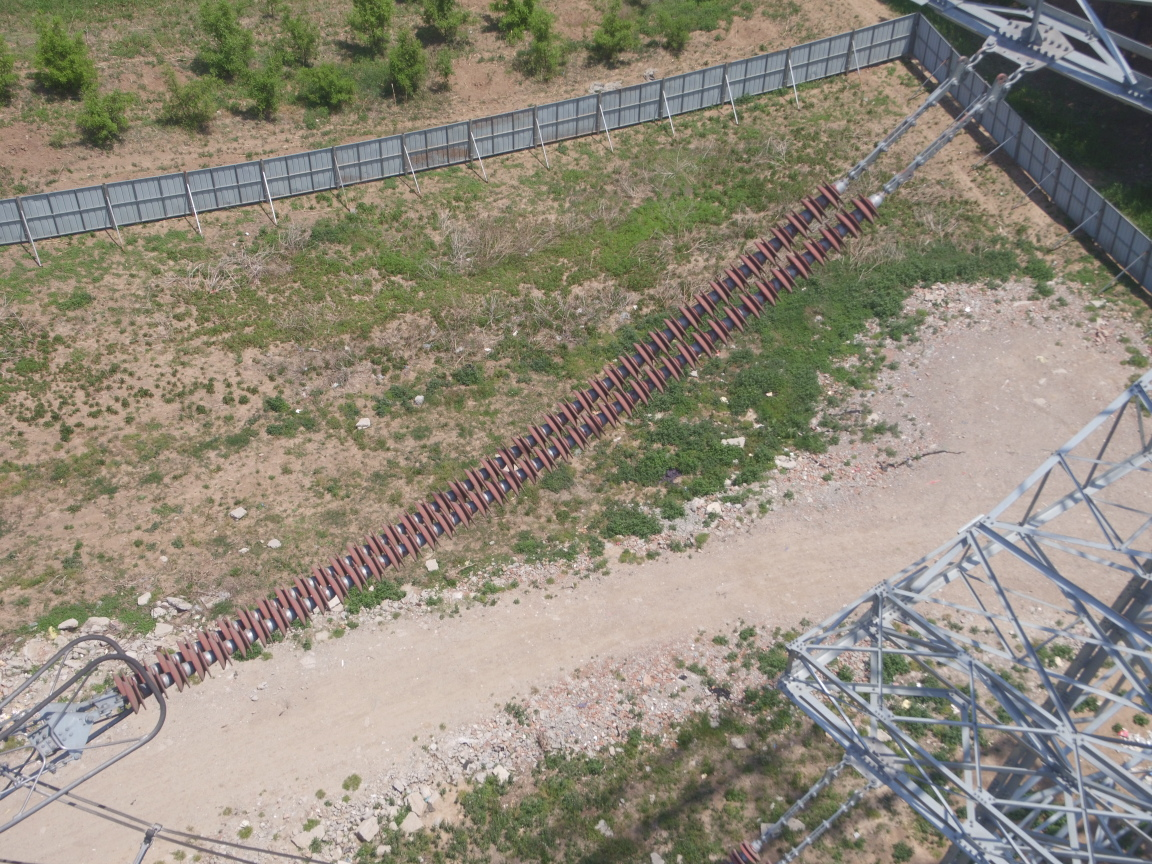insulator: (94, 159, 901, 723)
